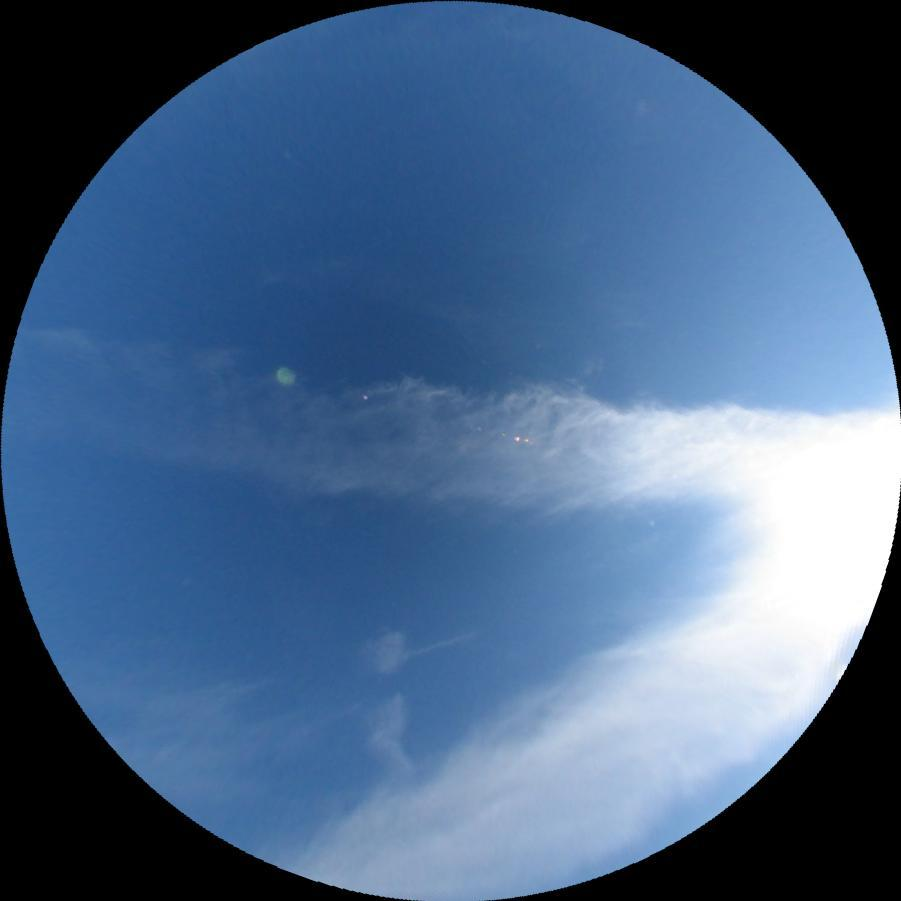contrail veryold: (0, 323, 889, 546), (356, 626, 416, 778)
unknow: (399, 627, 477, 661)
